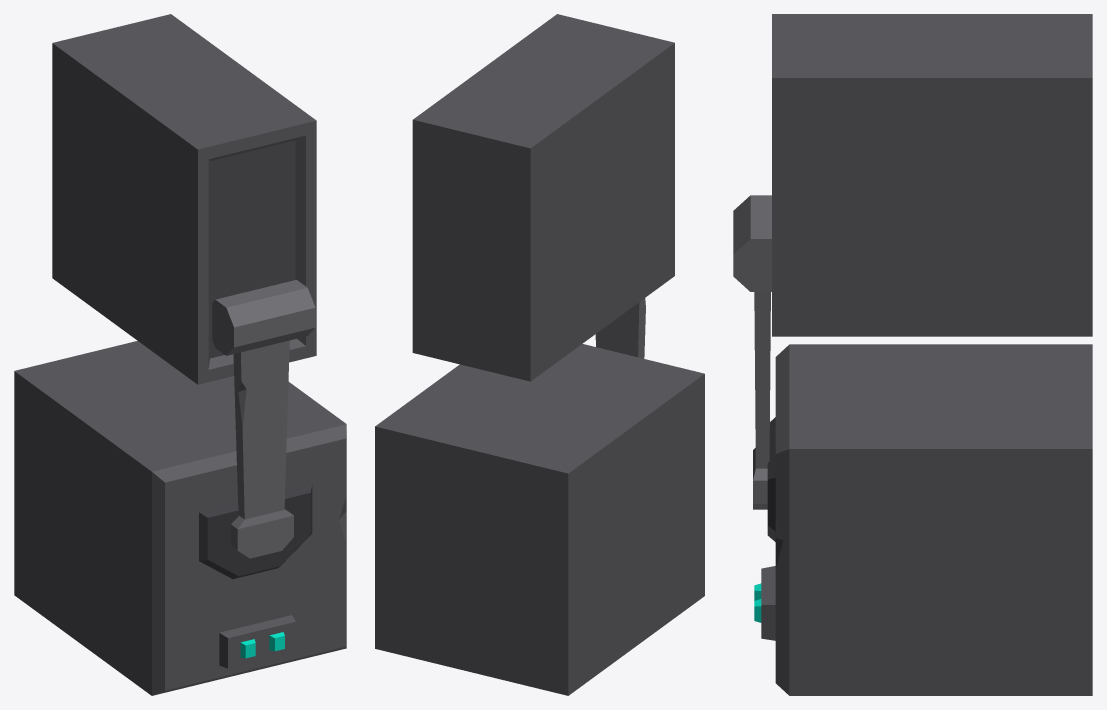
The model's file is SM_Prop_Detail_Box_02.glb.
3 renders of one model, left to right at view 1: azimuth 30°, elevation 25°; view 2: azimuth 150°, elevation 25°; view 3: azimuth 270°, elevation 25°, orthographic. The views are drawn at different scales.
Visible parts, largest first — view 1: SM_Prop_Detail_Box_02; view 2: SM_Prop_Detail_Box_02; view 3: SM_Prop_Detail_Box_02.
Boxes of the visible parts, left/top/right/bottom form: SM_Prop_Detail_Box_02: left=14, top=14, right=346, bottom=695; SM_Prop_Detail_Box_02: left=375, top=14, right=704, bottom=695; SM_Prop_Detail_Box_02: left=733, top=14, right=1092, bottom=695.
Size of the model in its own units: 0.4279 by 1.14 by 0.6204.
Materials: 1 (1 with a texture image).
